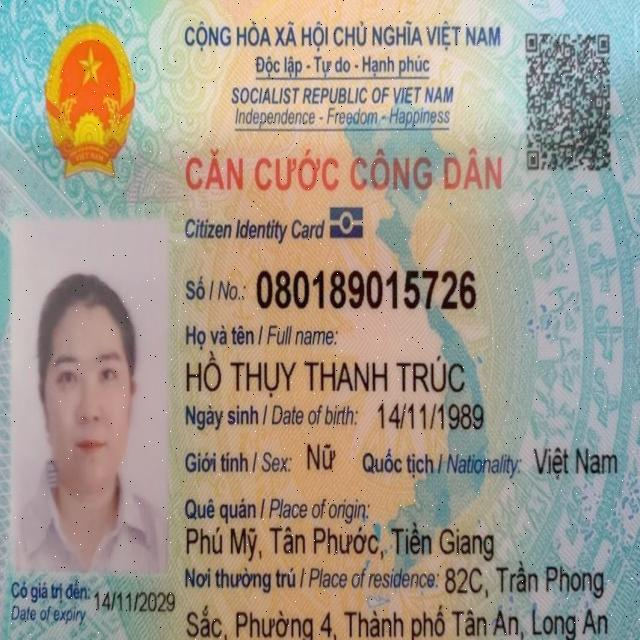current_place: (186, 601, 609, 640), (445, 559, 606, 601)
dob: (377, 398, 486, 435)
expire_date: (93, 584, 179, 620)
gender: (306, 435, 336, 475)
id: (255, 263, 478, 313)
name: (185, 351, 466, 396)
nationality: (534, 446, 620, 479)
origin_place: (186, 520, 497, 565)
